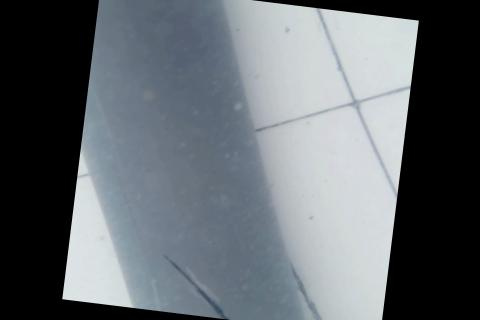keretakan: (154, 254, 292, 320)
